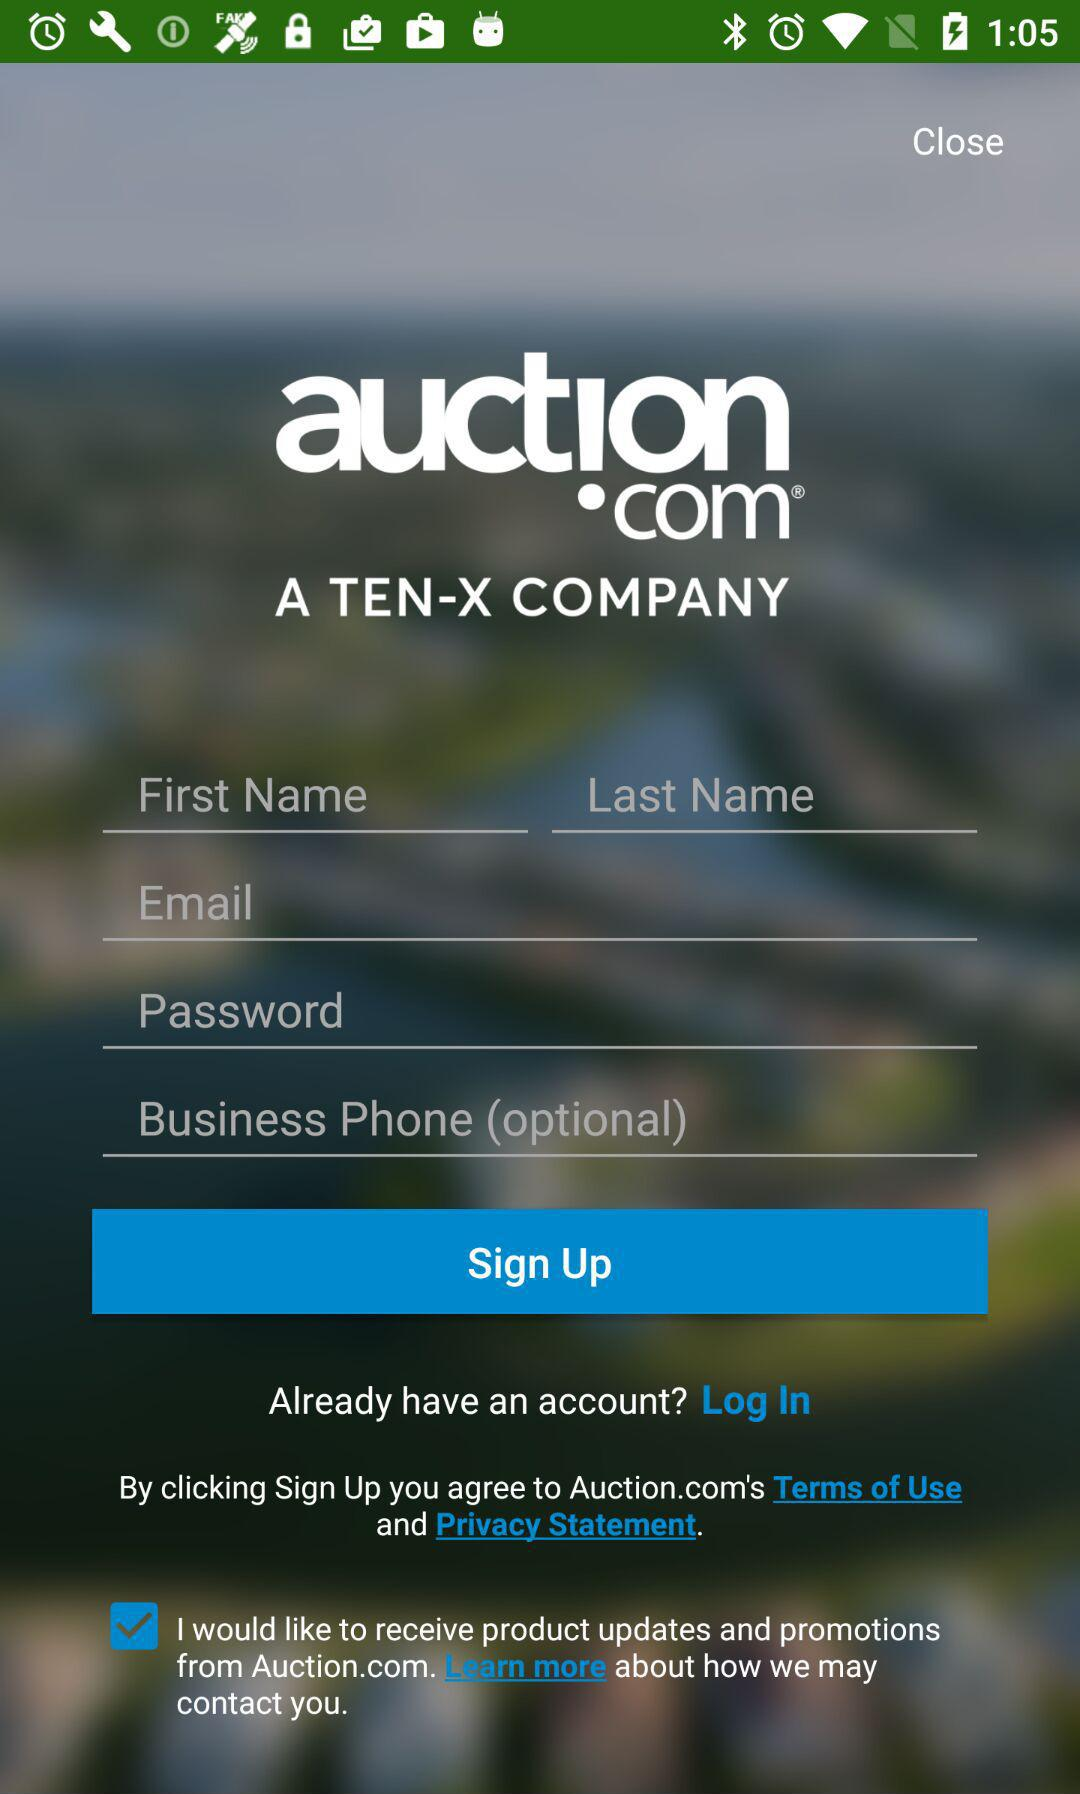BackgroundImage: (1, 64, 1080, 1794)
CheckedTextView: (110, 1601, 942, 1724)
EditText: (102, 883, 978, 943), (102, 991, 978, 1051), (102, 1098, 978, 1158), (102, 777, 530, 835), (551, 777, 978, 835)
Image: (275, 351, 806, 542)
Text: (177, 1615, 942, 1724), (120, 1472, 963, 1545), (140, 1098, 685, 1147), (274, 575, 790, 619), (269, 1385, 811, 1422), (141, 777, 368, 814), (589, 777, 816, 814), (141, 992, 343, 1032), (140, 883, 252, 921), (913, 127, 1004, 158)
TextButton: (92, 1208, 989, 1315)
UpperTaskBar: (1, 1, 1080, 64)
